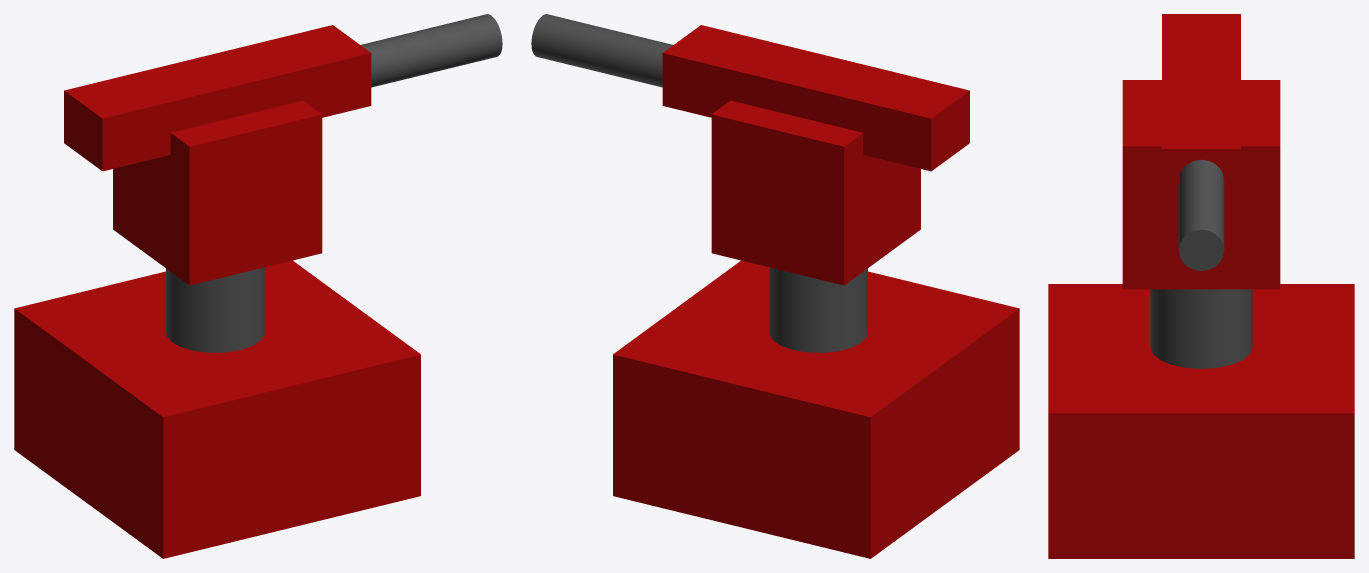
The model's file is Turret.fbx.
The picture shows the model from 3 angles, left to right: view 1: azimuth 30°, elevation 25°; view 2: azimuth 150°, elevation 25°; view 3: azimuth 270°, elevation 25°; orthographic projection. The views are drawn at different scales.
Parts seen in each view (by area): view 1: Turret (×2), Chamber, Stand, Barrel; view 2: Turret (×2), Chamber, Stand, Barrel; view 3: Turret (×2), Chamber, Stand, Barrel.
Boxes of the visible parts, bbox=[...] form: Turret (×2): bbox=[14, 100, 420, 558]; Chamber: bbox=[64, 25, 371, 171]; Stand: bbox=[166, 267, 264, 352]; Barrel: bbox=[361, 14, 502, 87]; Turret (×2): bbox=[613, 100, 1019, 558]; Chamber: bbox=[662, 25, 969, 171]; Stand: bbox=[769, 267, 867, 352]; Barrel: bbox=[531, 14, 672, 87]; Turret (×2): bbox=[1048, 80, 1354, 558]; Chamber: bbox=[1162, 14, 1240, 203]; Stand: bbox=[1150, 289, 1252, 368]; Barrel: bbox=[1178, 159, 1224, 270].
Bounding box in the file's own units: 1.58 × 1.49 × 1.
